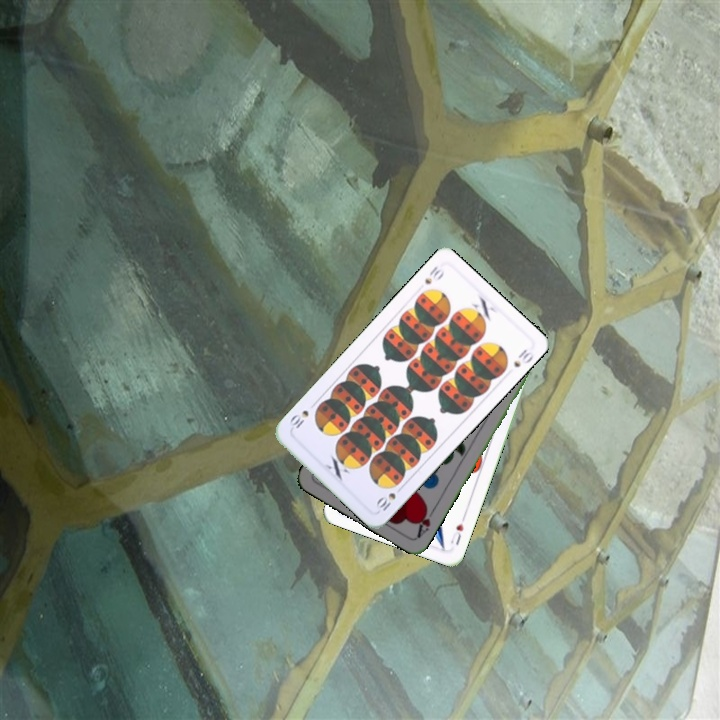HA: (413, 502, 439, 540)
HU: (447, 512, 468, 548)
S10: (371, 482, 405, 514), (420, 262, 447, 287)
